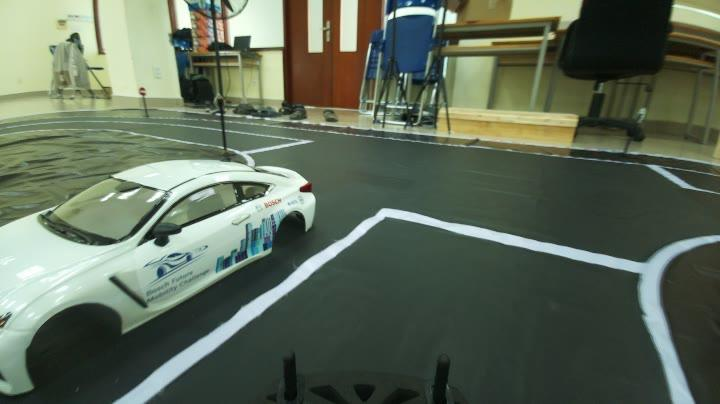car: (2, 136, 323, 380)
